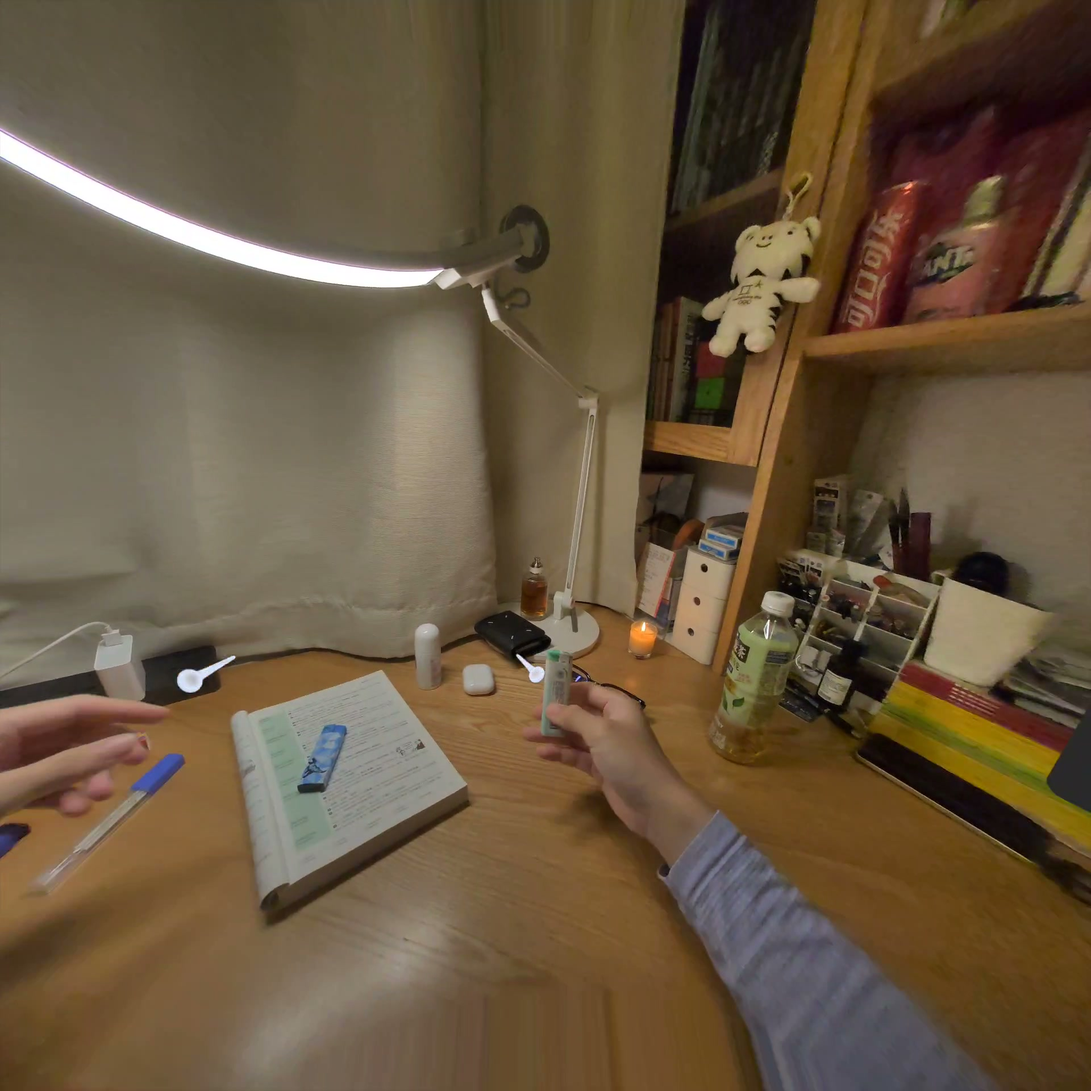lighter: (540, 649, 571, 736)
